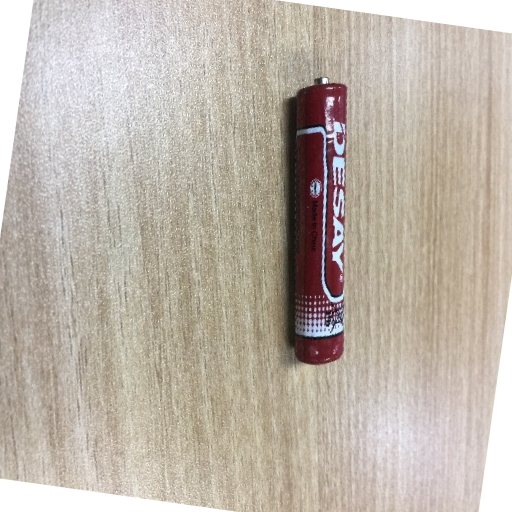Battery_0: (275, 62, 370, 375)
